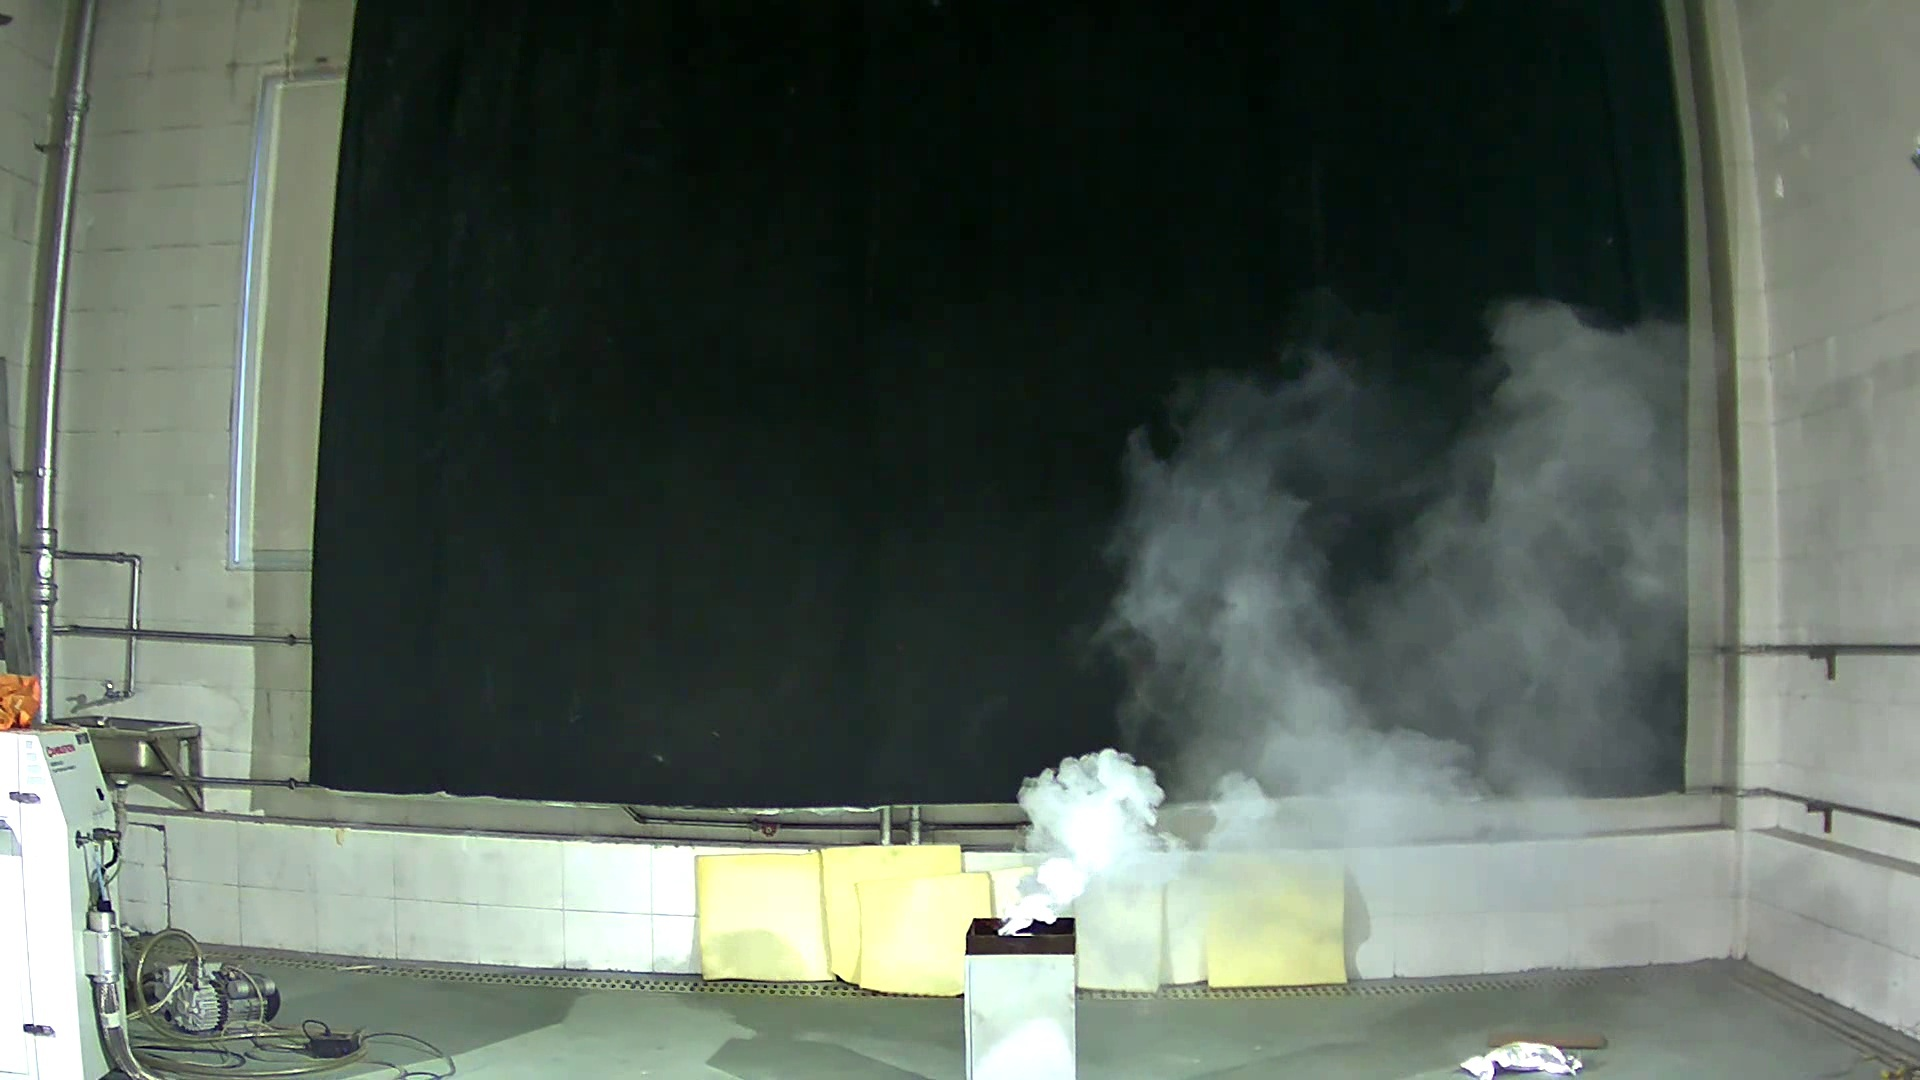smoke: (1088, 255, 1696, 818), (982, 745, 1175, 938)
